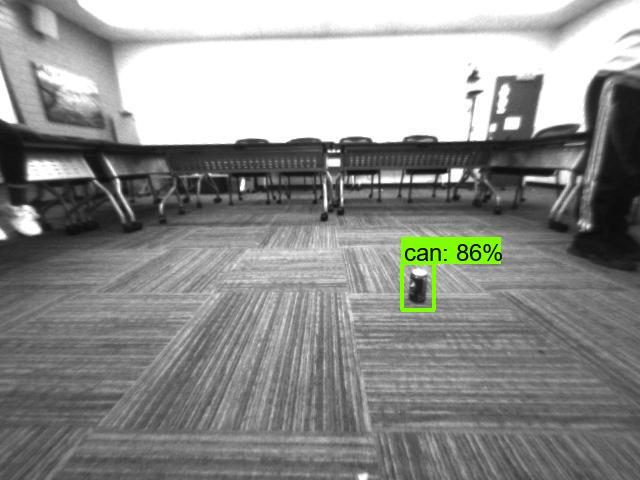can: (406, 266, 431, 304)
